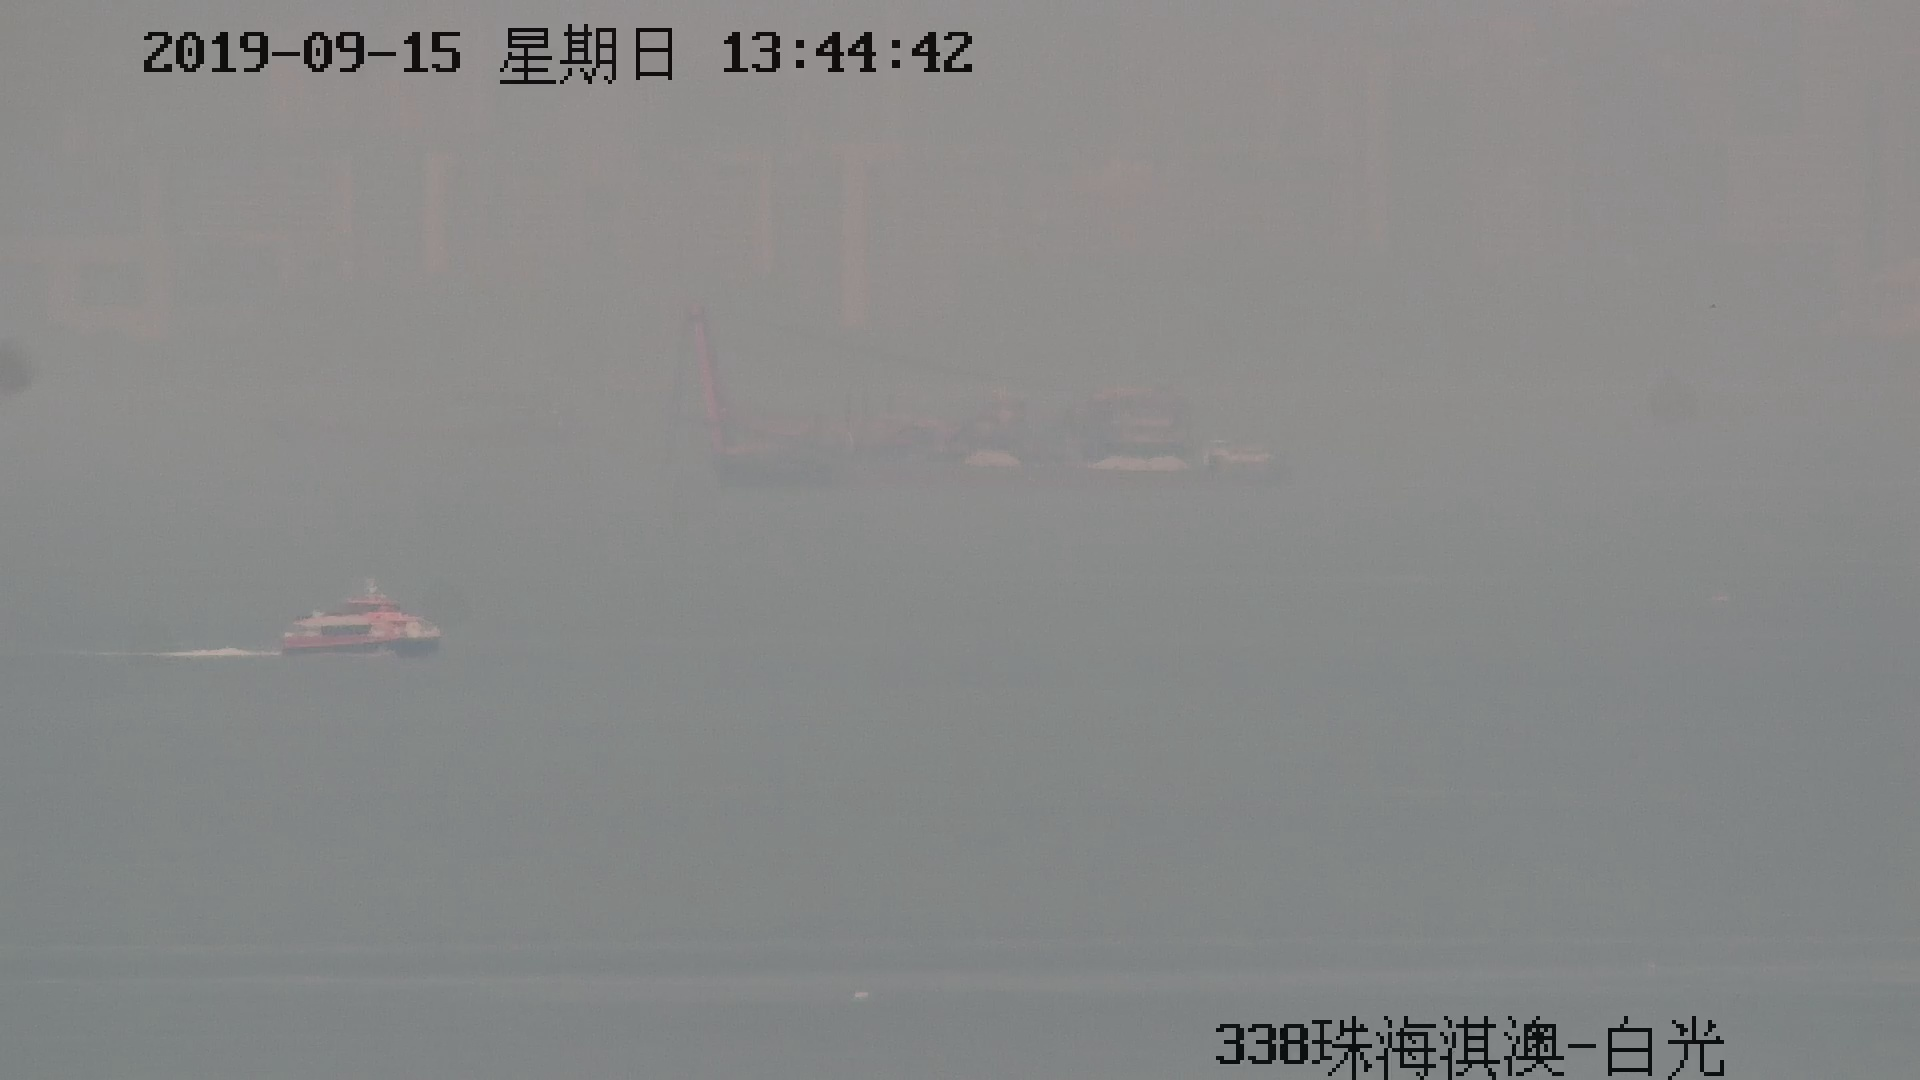ship: (683, 310, 1280, 484), (280, 578, 444, 655)
